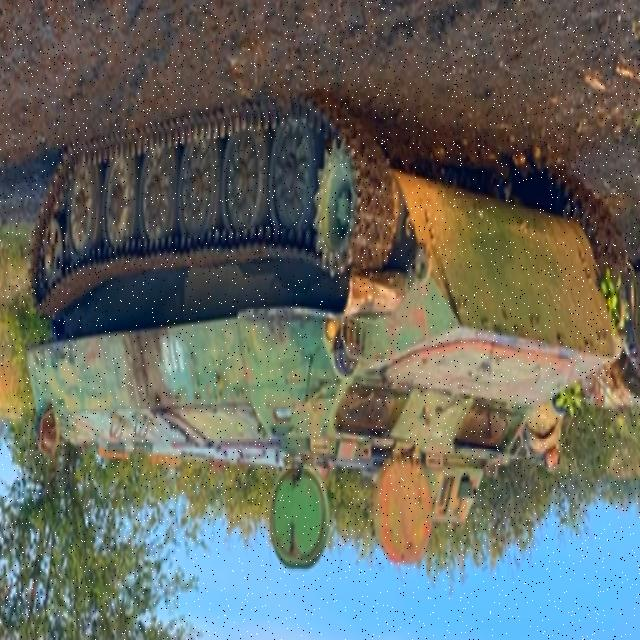APC-IFV: (30, 109, 639, 569)
